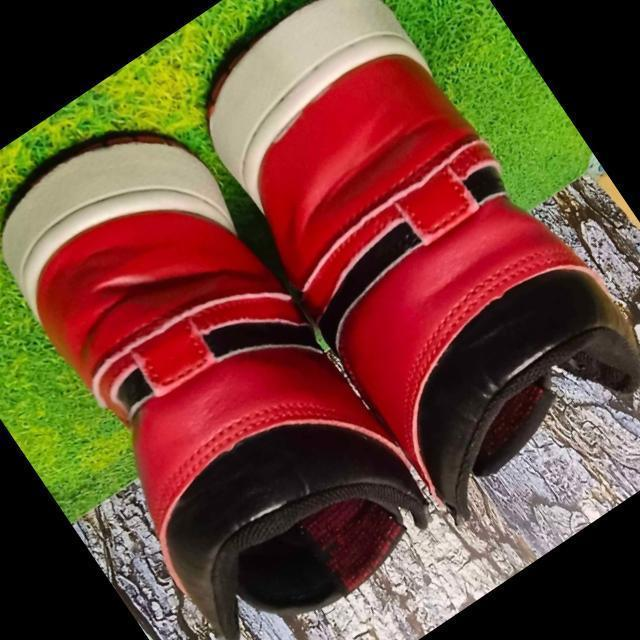nike fake jordan 1: (157, 0, 640, 534), (0, 91, 454, 640)
